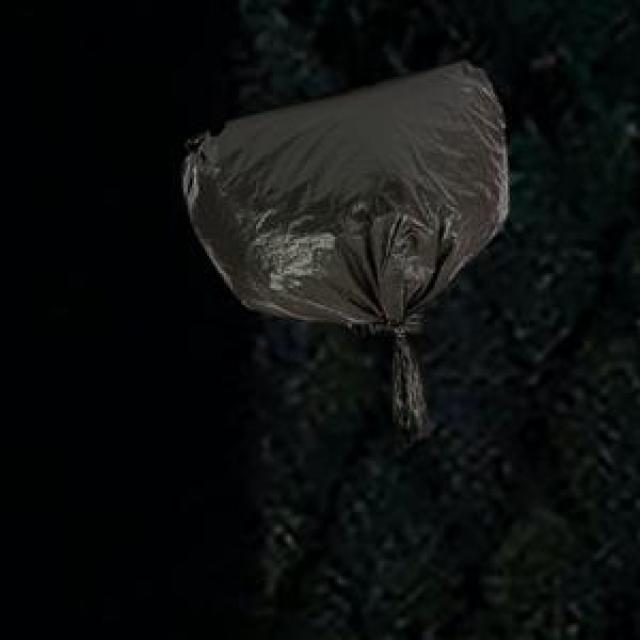Trashbag: (175, 62, 536, 450)
